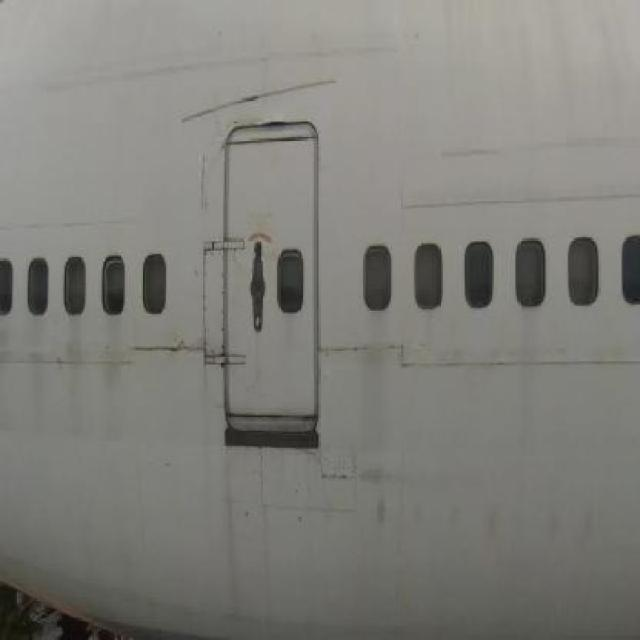Scartch: (158, 329, 197, 373), (191, 146, 211, 220), (215, 115, 239, 168), (384, 338, 414, 379), (238, 83, 272, 114)
